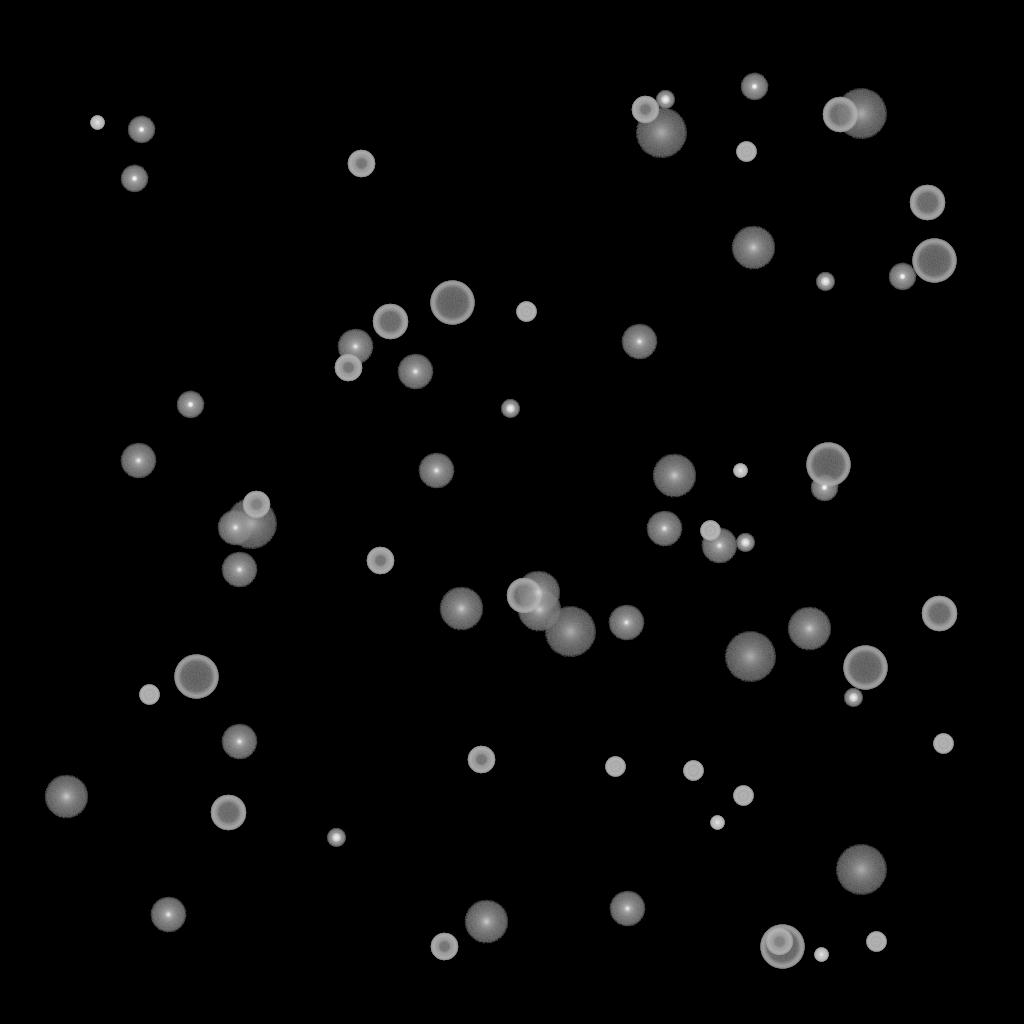depth:-10: (120, 165, 148, 193), (810, 474, 838, 502), (127, 116, 155, 144), (740, 73, 768, 101), (888, 263, 916, 291), (176, 391, 204, 419)
depth:-20: (327, 829, 345, 847), (736, 534, 754, 552), (816, 273, 834, 291), (501, 400, 519, 418), (656, 91, 674, 109), (844, 689, 862, 707)
depth:-30: (733, 464, 747, 478), (90, 116, 104, 130), (710, 816, 724, 830), (814, 948, 828, 962)
depth:-40: (683, 761, 703, 781), (700, 521, 720, 541), (733, 786, 753, 806), (933, 734, 953, 754), (736, 142, 756, 162), (866, 932, 886, 952), (516, 302, 536, 322), (605, 757, 625, 777), (139, 685, 159, 705)
depth:-50: (242, 491, 270, 519), (366, 547, 394, 575), (347, 150, 375, 178), (467, 746, 495, 774), (334, 354, 362, 382), (765, 928, 793, 956), (631, 96, 659, 124), (430, 933, 458, 961)
depth:-60: (921, 596, 957, 632), (210, 795, 246, 831), (909, 185, 945, 221), (506, 578, 542, 614), (372, 304, 408, 340), (822, 97, 858, 133)
depth:-70: (843, 646, 887, 690), (760, 925, 804, 969), (430, 281, 474, 325), (806, 443, 850, 487), (174, 655, 218, 699), (912, 239, 956, 283)
depth:0: (217, 510, 253, 546), (418, 453, 454, 489), (646, 511, 682, 547), (221, 552, 257, 588), (621, 324, 657, 360), (397, 354, 433, 390), (221, 724, 257, 760), (608, 605, 644, 641), (609, 891, 645, 927), (120, 443, 156, 479), (337, 329, 373, 365), (150, 897, 186, 933), (701, 528, 737, 564)
depth:10: (652, 454, 696, 498), (439, 587, 483, 631), (787, 607, 831, 651), (516, 571, 560, 615), (44, 775, 88, 819), (464, 900, 508, 944), (731, 226, 775, 270), (517, 588, 561, 632)
depth:20: (544, 607, 596, 657), (635, 108, 687, 158), (225, 499, 277, 549), (724, 632, 776, 682), (835, 845, 887, 895), (835, 89, 887, 139)
